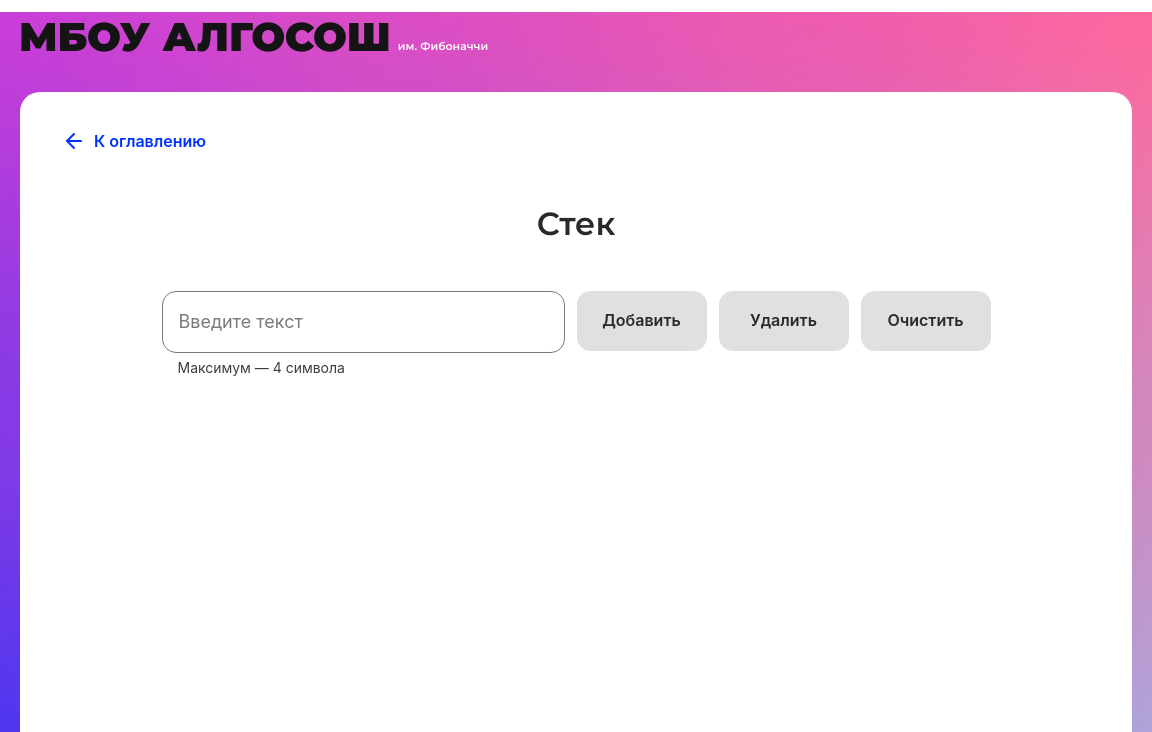
Страница Стек отображается корректно › Элементы верно добавляются в стек
In the field with placeholder "Введите текст": (364, 322) [162,291,565,353], type "1"
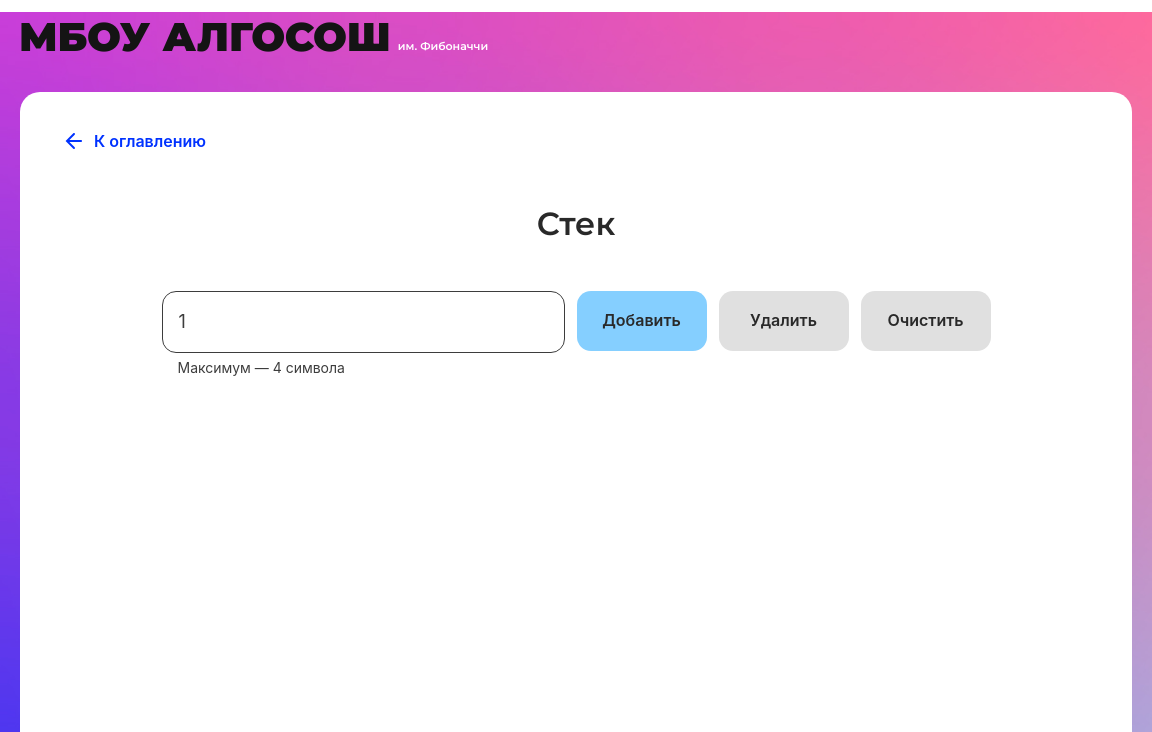
Click the button with test id "addbutton": (642, 321) [577,291,707,351]
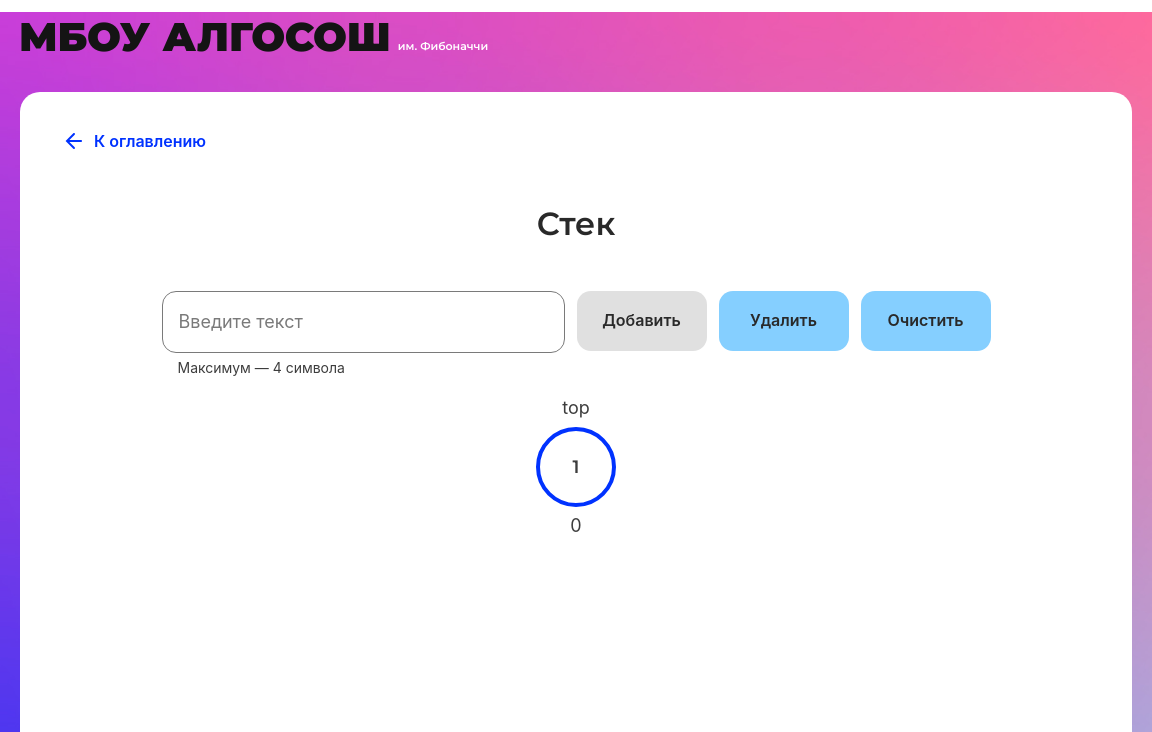
Expected: the number of elements with test id "circle" is 1, [536,427,616,507]
Expected: the text with test id "circle" reads "1", [573,456,580,478]
Expected: the text with test id "head" reads "top", [562,397,590,418]
In the field with placeholder "Введите текст": (364, 322) [162,291,565,353], type "2"
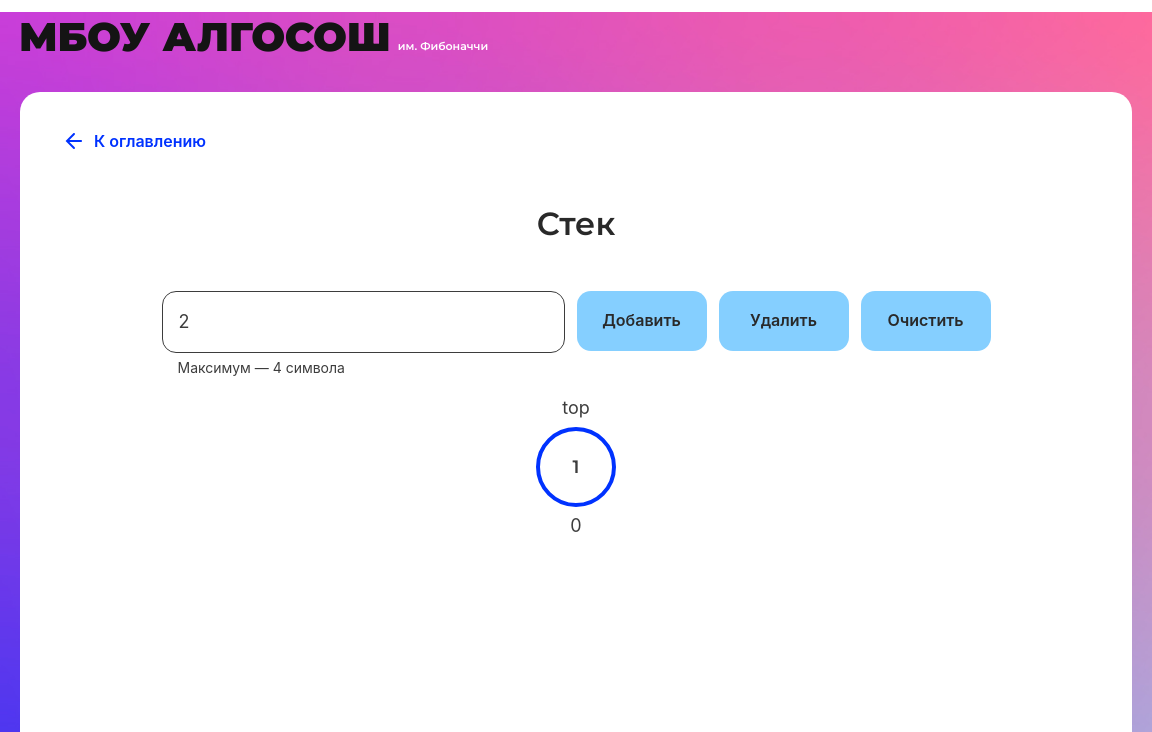
Click the button with test id "addbutton": (642, 321) [577,291,707,351]
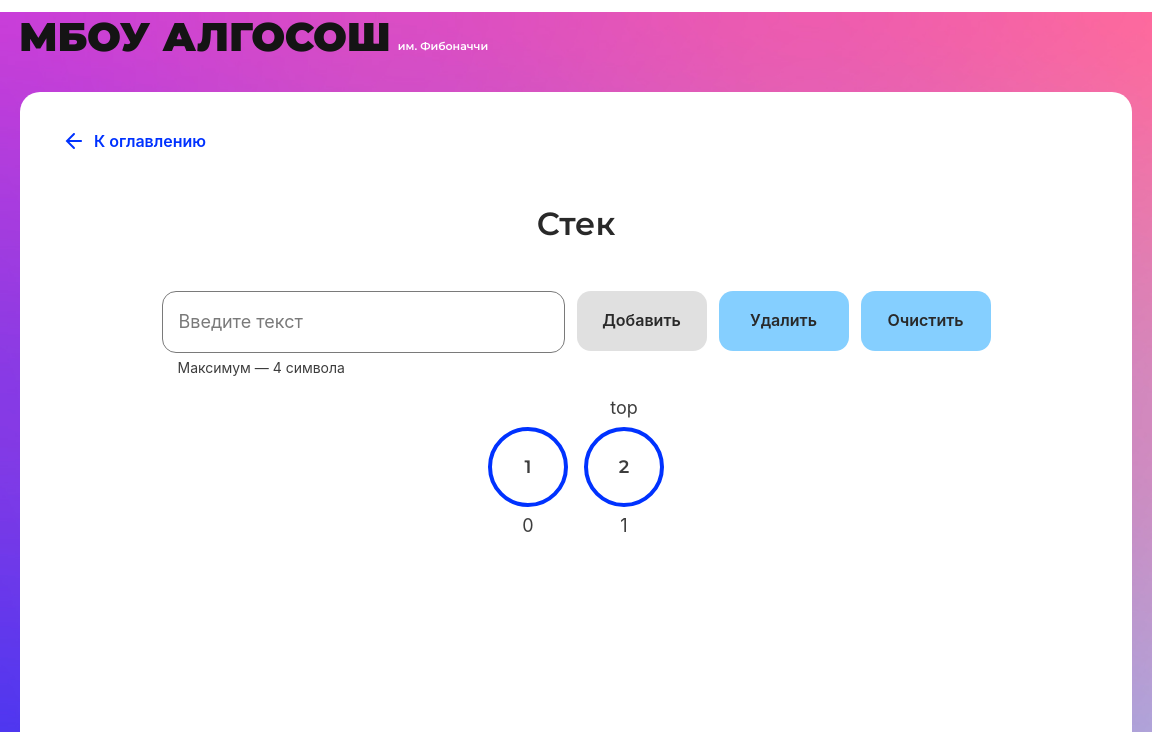
Expected: the text with test id "index" reads "0", [522,515,533,536]
Expected: the number of elements with test id "circle" is 2, [488,427,568,507]; [584,427,664,507]
Expected: the text with test id "index" below "top" reads "1", [620,515,627,536]
In the field with placeholder "Введите текст": (364, 322) [162,291,565,353], type "3"
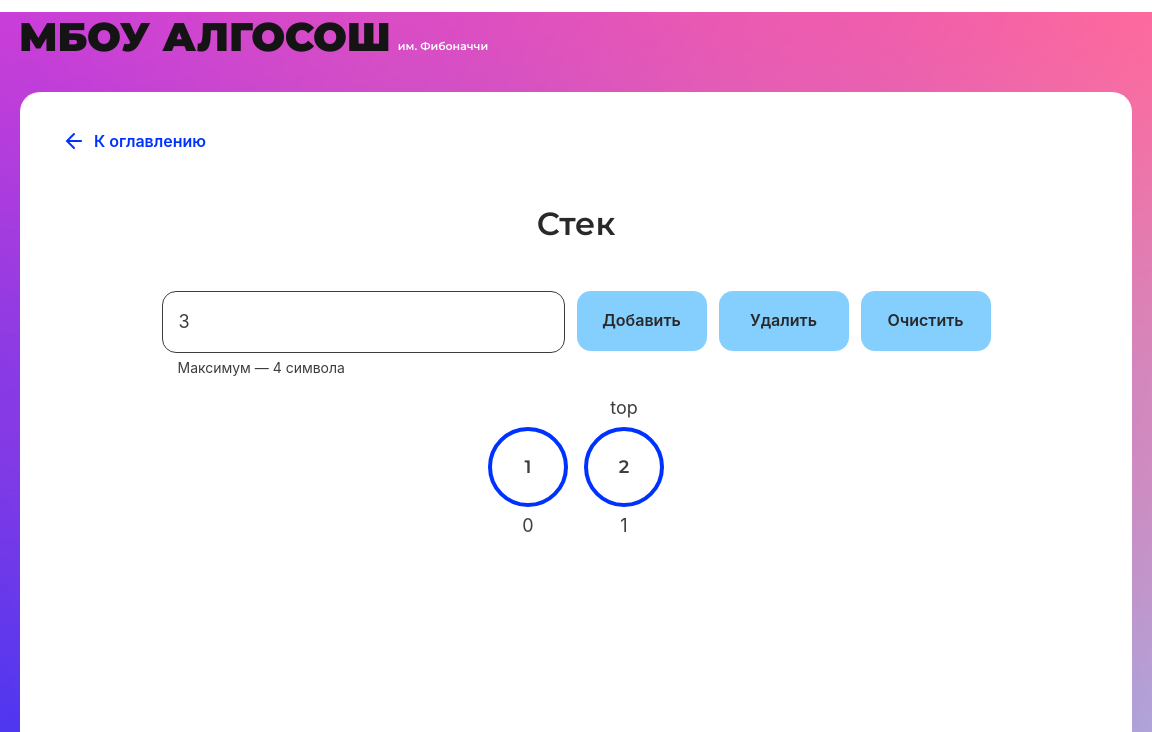
Click the button with test id "addbutton": (642, 321) [577,291,707,351]
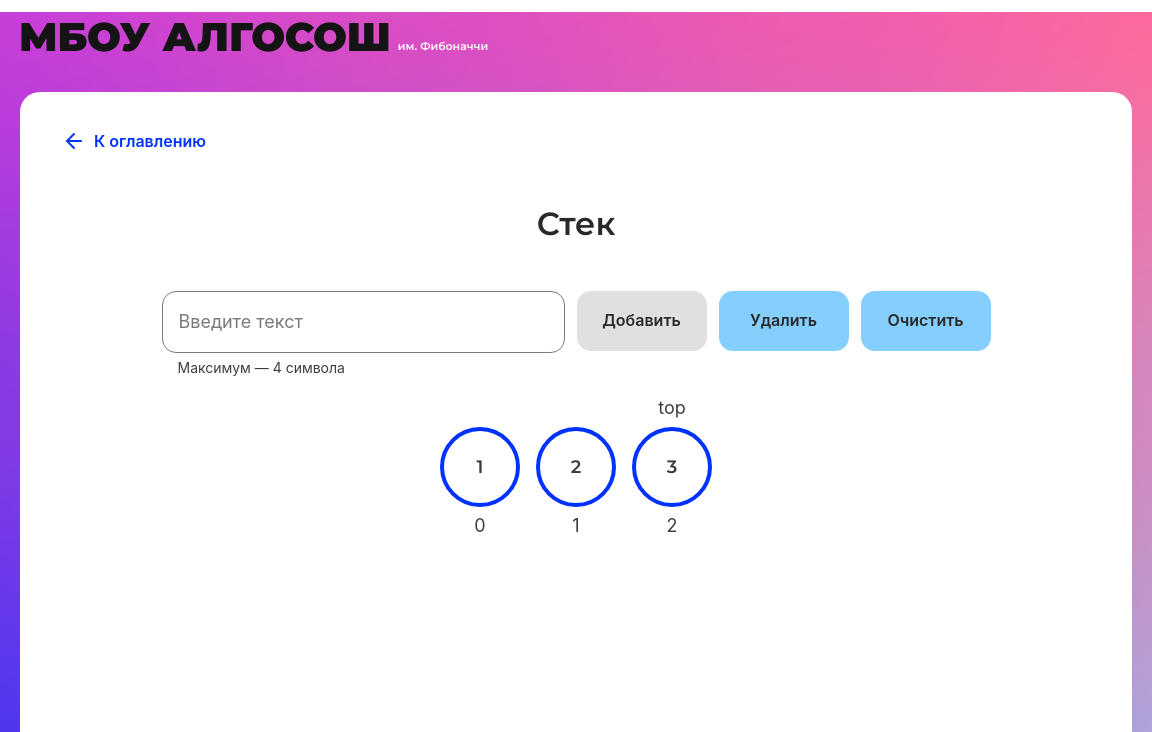
Expected: the text with test id "index" reads "0", [474,515,485,536]
Expected: the 2nd text with test id "index" reads "1", [572,515,579,536]
Expected: the number of elements with test id "circle" is 3, [440,427,520,507]; [536,427,616,507]; [632,427,712,507]
